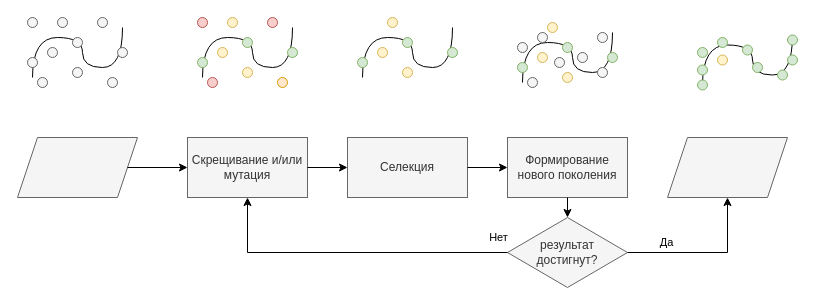
The diagram is 815 pixels wide and 305 high, and some of its shapes have lost their labels. Each missing label, with the centre of its shape:
Начальная популяция: the point at 77,167
Результирующая популяция: the point at 727,167
